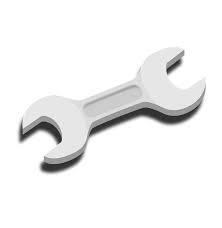wrench: (19, 45, 207, 165)
